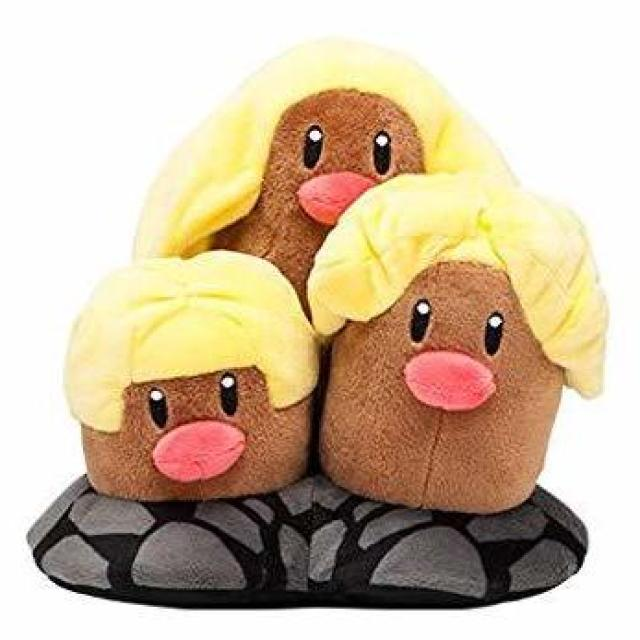Dugtrio: (72, 41, 599, 512)
